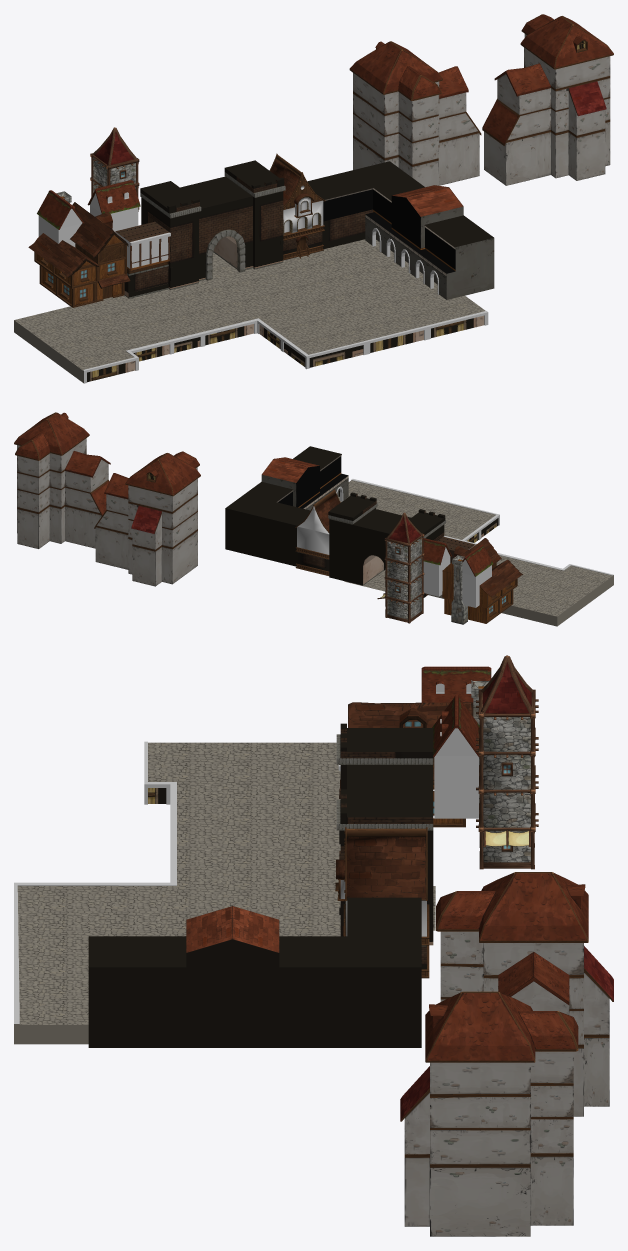
Rendered from dock.fbx.
The picture shows the model from 3 angles, top to bottom: view 1: azimuth 30°, elevation 25°; view 2: azimuth 150°, elevation 25°; view 3: azimuth 270°, elevation 25°; orthographic projection. The views are drawn at different scales.
Parts seen in each view (by area): view 1: Cube; view 2: Cube; view 3: Cube.
Boxes of the visible parts, x1,y1,x2,y2 form: Cube: (14, 14, 613, 383); Cube: (14, 412, 613, 626); Cube: (14, 655, 613, 1236).
Size of the model in its own units: 11887 by 2618 by 6270.
